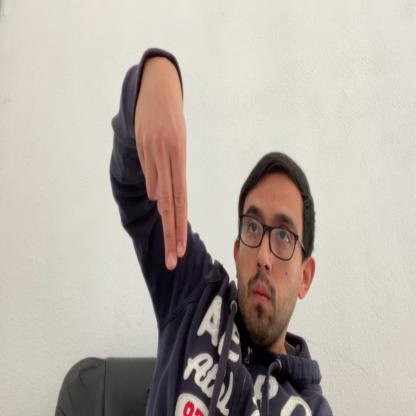N: (136, 49, 188, 272)
